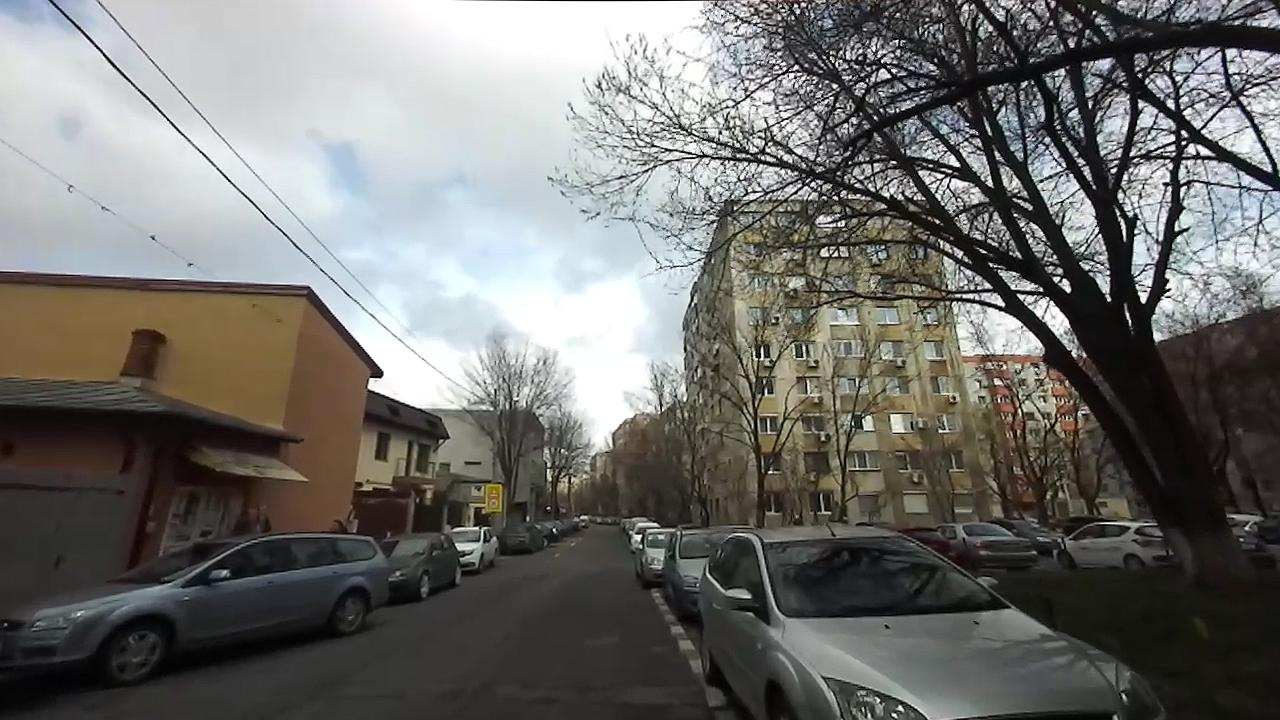pothole: (512, 691, 557, 711)
